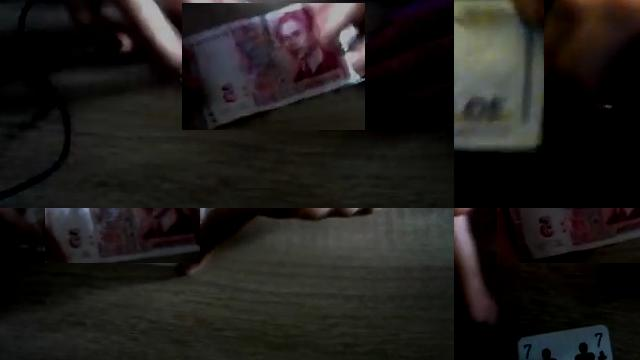10leva: (454, 0, 544, 154)
5leva: (182, 3, 365, 130), (45, 208, 198, 263), (504, 208, 640, 263)
